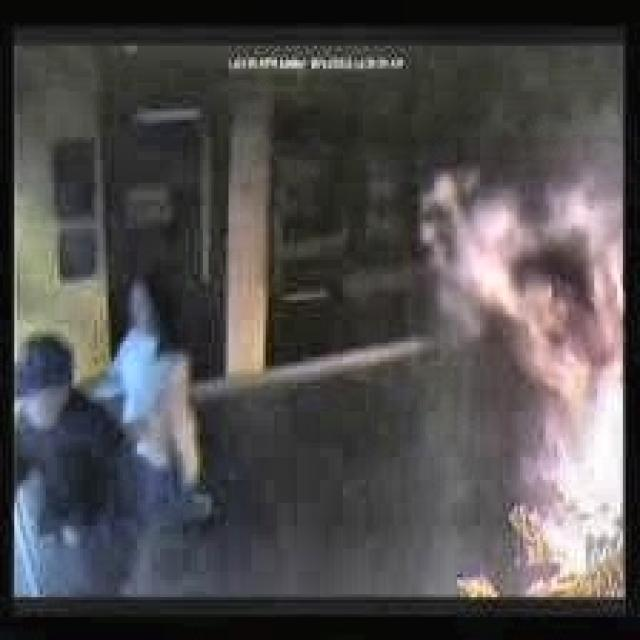fire: (437, 137, 640, 606)
